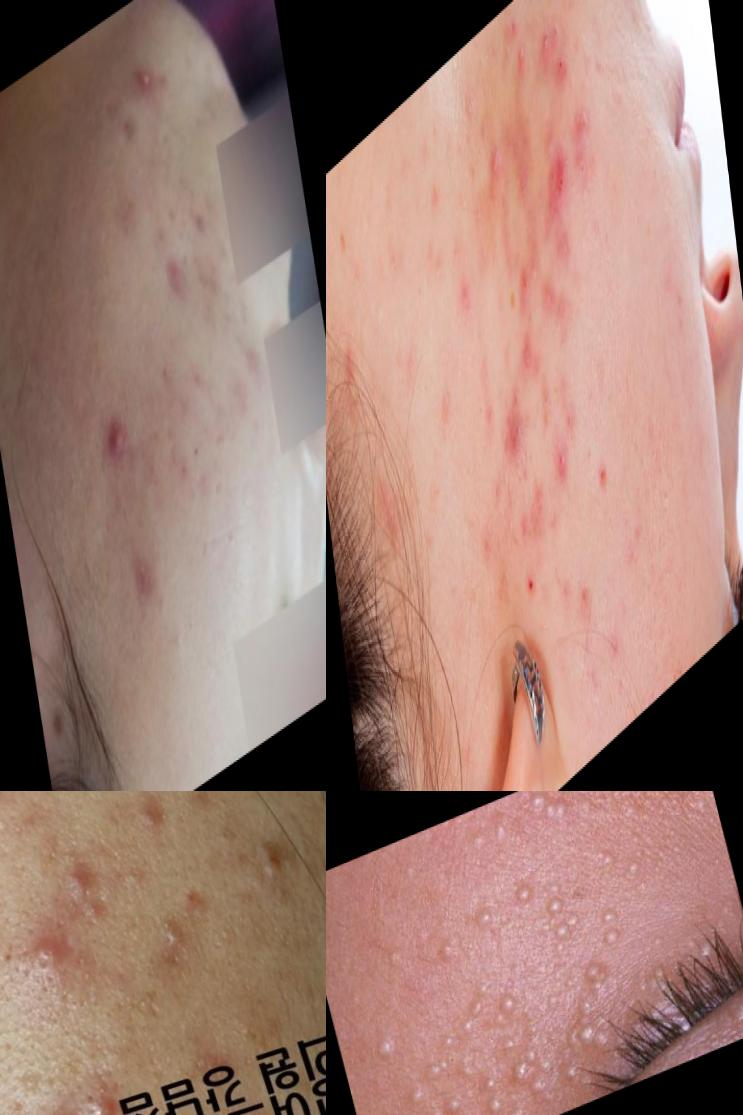acne_scars: (154, 232, 193, 319), (125, 538, 157, 612)
milium: (547, 959, 641, 1087), (476, 1041, 556, 1115), (587, 896, 637, 963), (580, 829, 632, 891), (543, 884, 587, 952), (519, 792, 578, 841), (570, 946, 618, 1006), (421, 1028, 466, 1088), (487, 981, 536, 1036), (452, 988, 493, 1041), (428, 926, 468, 973), (503, 871, 541, 914), (481, 810, 517, 854), (464, 893, 499, 935), (490, 1022, 526, 1062), (373, 1025, 403, 1067), (401, 1073, 433, 1112), (694, 926, 723, 966), (520, 1013, 548, 1051), (436, 1085, 470, 1115), (619, 849, 645, 883)
papular: (35, 829, 114, 921), (86, 389, 132, 504), (124, 26, 168, 139), (570, 90, 596, 187), (545, 434, 577, 501), (542, 280, 558, 338)
purulent: (25, 1057, 119, 1115), (484, 137, 509, 206), (534, 13, 554, 75), (512, 28, 528, 82)
sebo-crystan-conglo: (532, 144, 571, 250), (500, 387, 527, 469)
whitehead: (134, 890, 201, 975), (163, 606, 194, 670)
